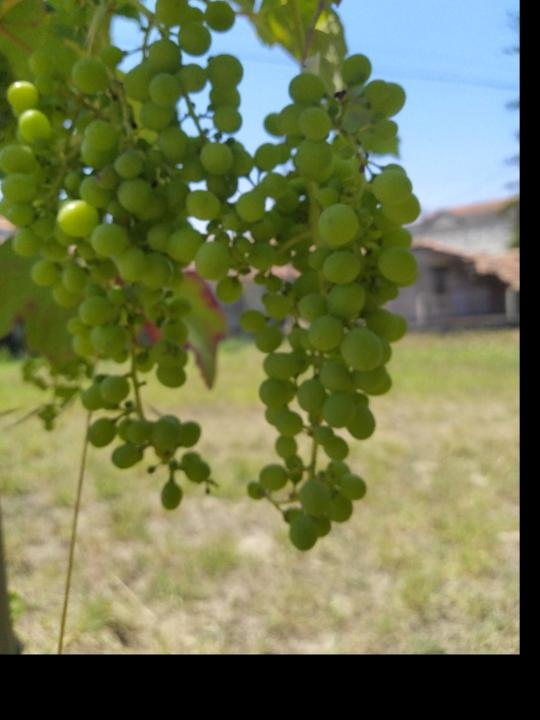grape: (0, 0, 254, 517), (235, 50, 423, 552)
